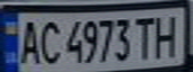3: (112, 15, 136, 62)
4: (63, 17, 84, 64)
7: (96, 16, 115, 63)
9: (78, 16, 100, 64)
A: (15, 16, 42, 65)
C: (36, 17, 63, 65)
H: (151, 11, 184, 60)
T: (133, 14, 157, 61)
